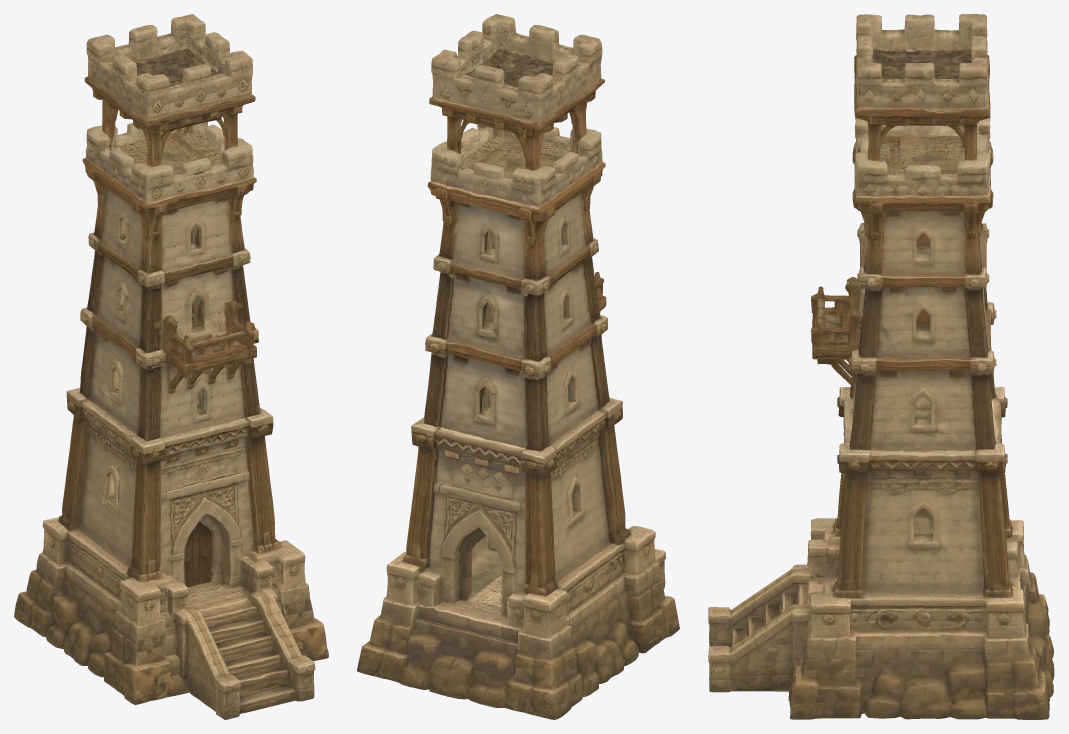
The model's file is HorizonWatch.glb.
The picture shows the model from 3 angles, left to right: view 1: azimuth 30°, elevation 25°; view 2: azimuth 150°, elevation 25°; view 3: azimuth 270°, elevation 25°; orthographic projection. The views are drawn at different scales.
Bounding box in the file's own units: 0.6632 × 1.9 × 0.9481.
Materials: 1 (1 with a texture image).
